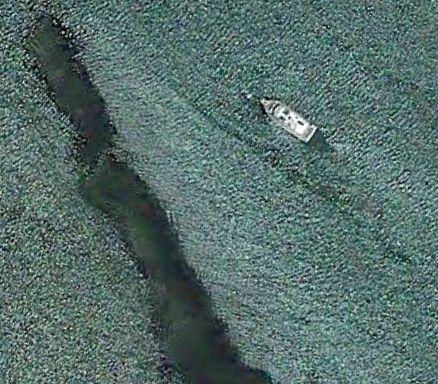boat: (260, 98, 319, 145)
